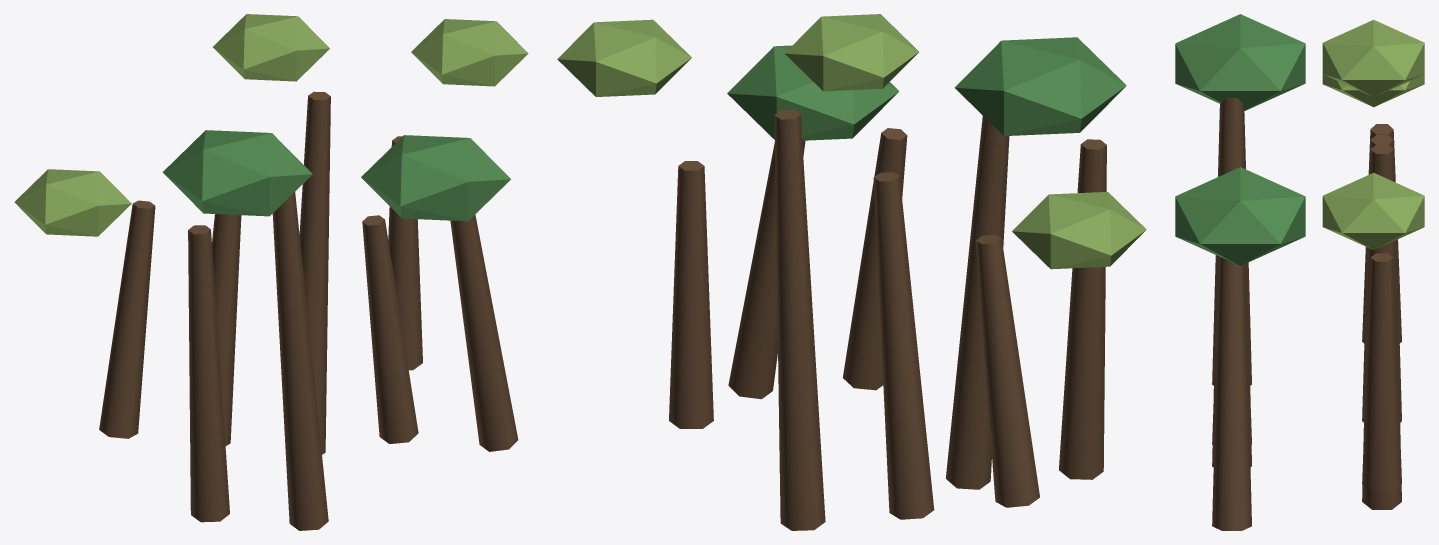
The model's file is river_reed_bed.glb.
3 renders of one model, left to right at view 1: azimuth 30°, elevation 25°; view 2: azimuth 150°, elevation 25°; view 3: azimuth 270°, elevation 25°, orthographic. The views are drawn at different scales.
Visible parts, largest first — view 1: stem_5, stem_4, bloom_1, bloom_3, stem_7, stem_0, stem_2, stem_6, bloom_2, bloom_4, bloom_0, stem_1 (+1 smaller); view 2: stem_2, stem_1, bloom_1, stem_5, stem_4, stem_0, stem_3, bloom_3, bloom_4, bloom_0, bloom_2, stem_7 (+1 smaller); view 3: bloom_3, stem_7, bloom_1, stem_3, bloom_2, bloom_4, stem_2, stem_5, bloom_0, stem_1, stem_0, stem_6 (+1 smaller).
Part boxes in pixels (x1=…): stem_5: x1=272, y1=192, x2=328, y2=530; stem_4: x1=188, y1=225, x2=229, y2=522; bloom_1: x1=162, y1=130, x2=312, y2=216; bloom_3: x1=361, y1=135, x2=510, y2=221; stem_7: x1=450, y1=214, x2=518, y2=451; stem_0: x1=99, y1=200, x2=155, y2=438; stem_2: x1=299, y1=91, x2=330, y2=454; stem_6: x1=362, y1=215, x2=418, y2=443; bloom_2: x1=213, y1=14, x2=329, y2=81; bloom_4: x1=411, y1=19, x2=528, y2=86; bloom_0: x1=14, y1=169, x2=131, y2=236; stem_1: x1=212, y1=214, x2=241, y2=445; stem_2: x1=774, y1=110, x2=825, y2=530; stem_1: x1=873, y1=172, x2=934, y2=519; bloom_1: x1=954, y1=37, x2=1126, y2=135; stem_5: x1=945, y1=116, x2=1009, y2=489; stem_4: x1=1059, y1=139, x2=1106, y2=479; stem_0: x1=975, y1=234, x2=1039, y2=507; stem_3: x1=669, y1=161, x2=713, y2=428; bloom_3: x1=727, y1=45, x2=899, y2=140; bloom_4: x1=557, y1=19, x2=691, y2=96; bloom_0: x1=1012, y1=192, x2=1146, y2=269; bloom_2: x1=784, y1=14, x2=918, y2=91; stem_7: x1=728, y1=140, x2=805, y2=399; bloom_3: x1=1175, y1=167, x2=1305, y2=265; stem_7: x1=1212, y1=256, x2=1251, y2=530; bloom_1: x1=1175, y1=14, x2=1305, y2=111; stem_3: x1=1362, y1=253, x2=1401, y2=491; bloom_2: x1=1322, y1=19, x2=1424, y2=96; bloom_4: x1=1322, y1=172, x2=1424, y2=249; stem_2: x1=1362, y1=144, x2=1401, y2=509; stem_5: x1=1212, y1=98, x2=1251, y2=466; bloom_0: x1=1322, y1=74, x2=1424, y2=107; stem_1: x1=1362, y1=135, x2=1401, y2=422; stem_0: x1=1362, y1=124, x2=1401, y2=343; stem_6: x1=1212, y1=256, x2=1251, y2=445.
Size of what is drawn, in the model's own units: 1.71 by 1.49 by 0.7488.
